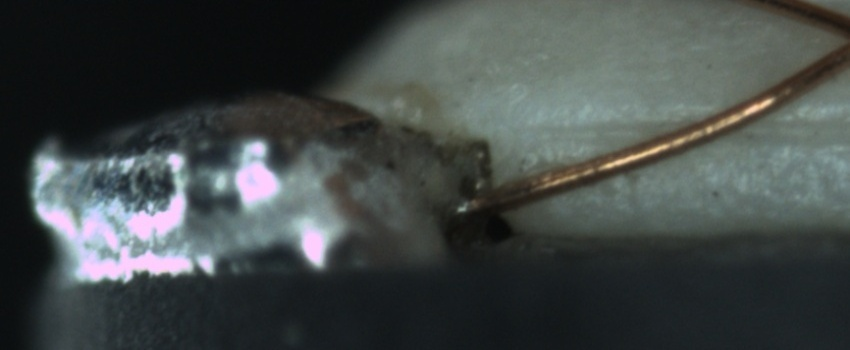DL: (536, 96, 850, 160)
